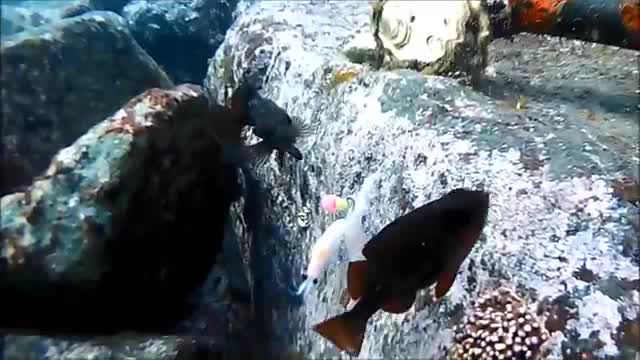mebaru: (310, 183, 496, 360)
